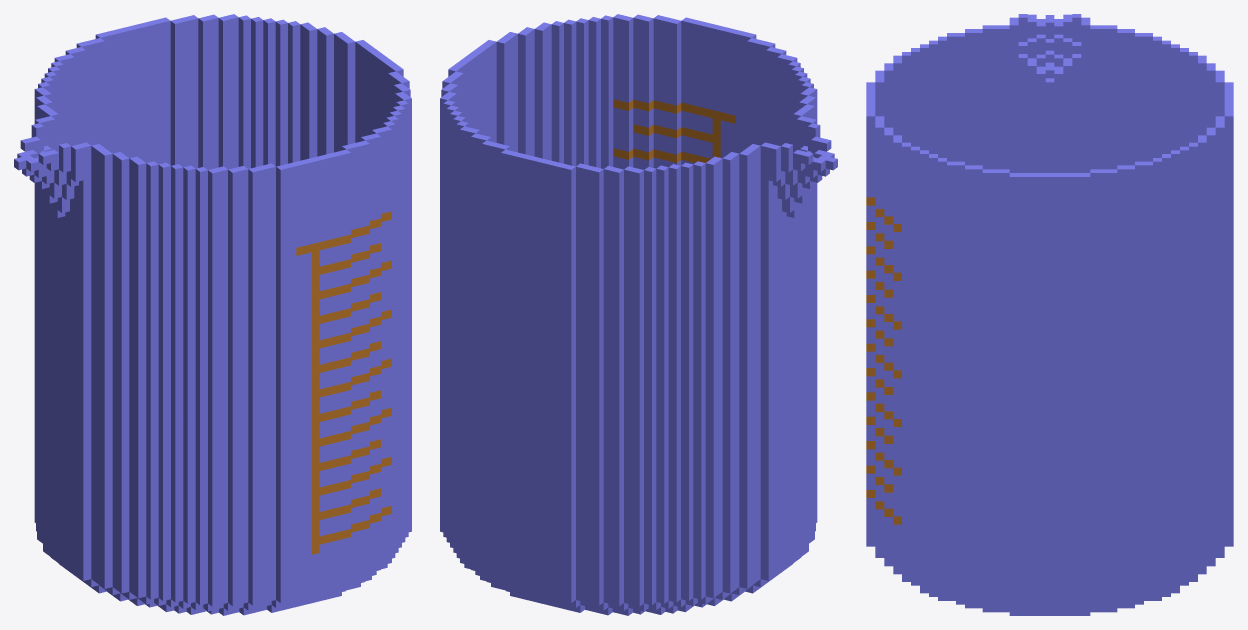
Rendered from Beaker2-4-1.fbx.
3 views of the same model, side by side, from view 1: azimuth 30°, elevation 25°; view 2: azimuth 150°, elevation 25°; view 3: azimuth 270°, elevation 25° (orthographic).
Visible parts, largest first — view 1: Beaker2-4-1.001, Beaker2-4-1; view 2: Beaker2-4-1.001, Beaker2-4-1; view 3: Beaker2-4-1.001, Beaker2-4-1.
Part boxes in pixels (x1=…): Beaker2-4-1.001: x1=14, y1=14, x2=411, y2=615; Beaker2-4-1: x1=296, y1=211, x2=391, y2=554; Beaker2-4-1.001: x1=440, y1=14, x2=837, y2=615; Beaker2-4-1: x1=613, y1=99, x2=735, y2=162; Beaker2-4-1.001: x1=866, y1=14, x2=1233, y2=615; Beaker2-4-1: x1=866, y1=197, x2=901, y2=524.
Bounding box in the file's own units: 4.7 × 5.5 × 4.1.
